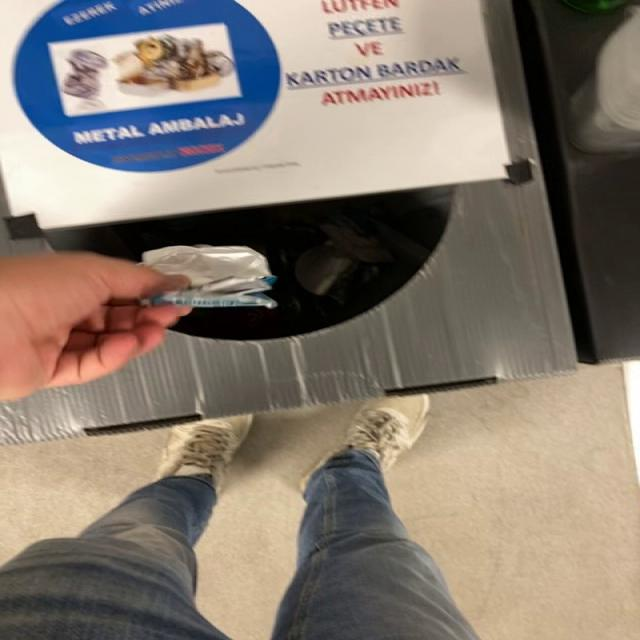bin: (0, 0, 576, 444), (1, 0, 575, 444)
metal: (143, 246, 277, 308)
